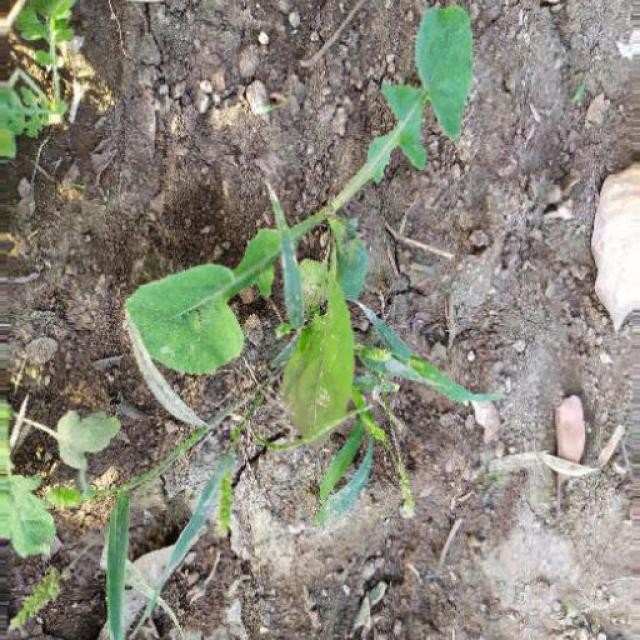weed: (101, 10, 499, 428)
